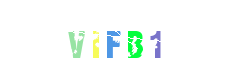1: (95, 0, 175, 80)
B: (88, 0, 168, 80)
F: (77, 0, 157, 80)
I: (55, 0, 135, 80)
V: (53, 0, 133, 80)
